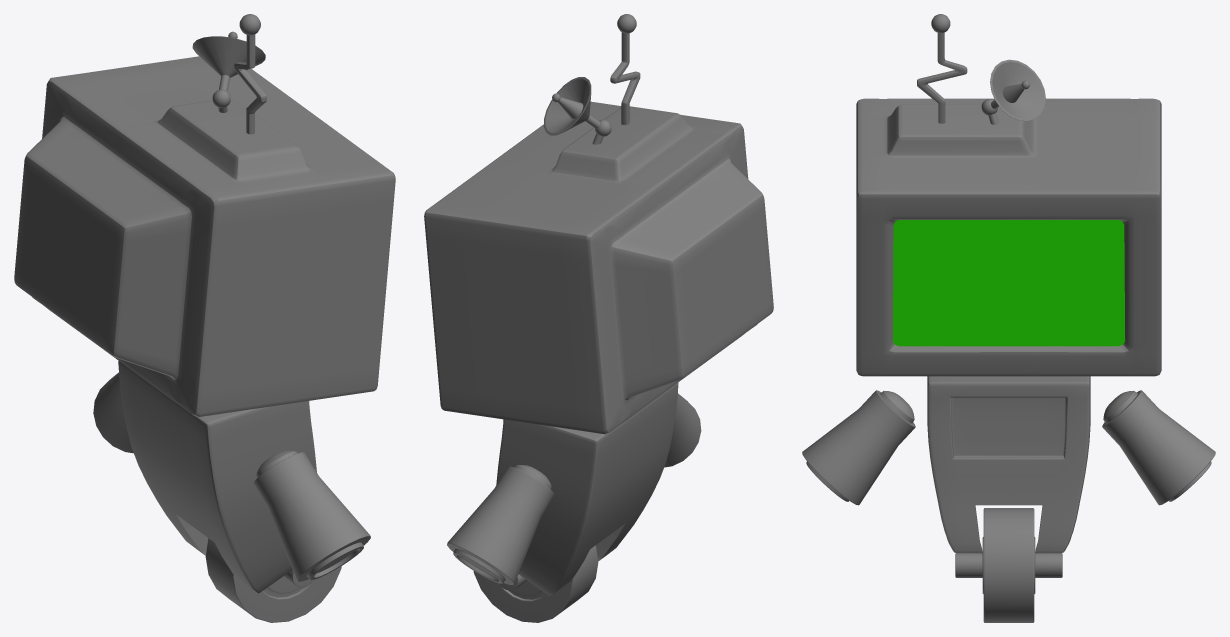
The picture shows the model from 3 angles, left to right: view 1: azimuth 30°, elevation 25°; view 2: azimuth 150°, elevation 25°; view 3: azimuth 270°, elevation 25°; orthographic projection. The views are drawn at different scales.
Parts seen in each view (by area): view 1: Cabeza, Cuerpo, Brazos, Rueda, Satelite2, Antena1; view 2: Cabeza, Cuerpo, Brazos, Rueda, Satelite2, Antena1; view 3: Cabeza, Pantalla, Cuerpo, Brazos, Rueda, Satelite2, Antena1.
Boxes of the visible parts, x1=… form: Cabeza: x1=14, y1=56, x2=395, y2=416; Cuerpo: x1=118, y1=361, x2=316, y2=593; Brazos: x1=93, y1=372, x2=370, y2=581; Rueda: x1=205, y1=538, x2=341, y2=622; Satelite2: x1=192, y1=31, x2=265, y2=112; Antena1: x1=234, y1=14, x2=266, y2=134; Cabeza: x1=424, y1=101, x2=773, y2=434; Cuerpo: x1=496, y1=383, x2=678, y2=595; Brazos: x1=447, y1=393, x2=701, y2=584; Rueda: x1=473, y1=545, x2=598, y2=622; Satelite2: x1=543, y1=77, x2=611, y2=144; Antena1: x1=610, y1=14, x2=640, y2=124; Cabeza: x1=856, y1=98, x2=1161, y2=376; Pantalla: x1=892, y1=220, x2=1125, y2=346; Cuerpo: x1=927, y1=376, x2=1090, y2=553; Brazos: x1=802, y1=390, x2=1215, y2=505; Rueda: x1=955, y1=508, x2=1062, y2=622; Satelite2: x1=981, y1=59, x2=1045, y2=124; Antena1: x1=917, y1=14, x2=967, y2=123.
Size of the model in its own units: 10.25 by 23.4 by 15.24.
